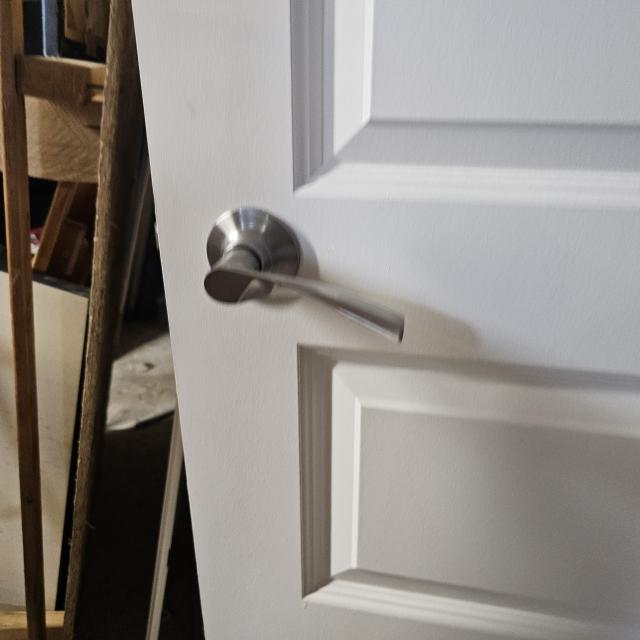door-handle: (204, 208, 404, 342)
